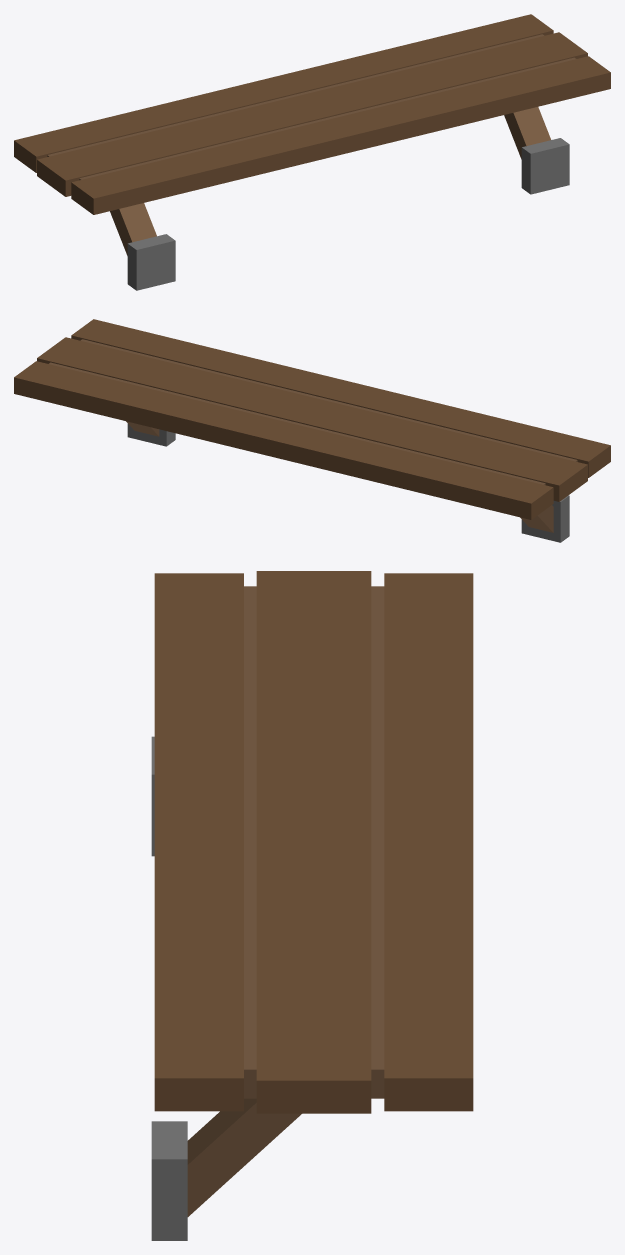
The model's file is Shelf.fbx.
3 views of the same model, one above another, from view 1: azimuth 30°, elevation 25°; view 2: azimuth 150°, elevation 25°; view 3: azimuth 270°, elevation 25° (orthographic). The views are drawn at different scales.
Parts seen in each view (by area): view 1: Cube.082; view 2: Cube.082; view 3: Cube.082.
Part boxes in pixels (x1,y1,x2,y2): Cube.082: [14, 14, 610, 290]; Cube.082: [14, 319, 610, 542]; Cube.082: [151, 571, 473, 1240].
Size of the model in its own units: 3.71 by 0.9898 by 0.6913.
